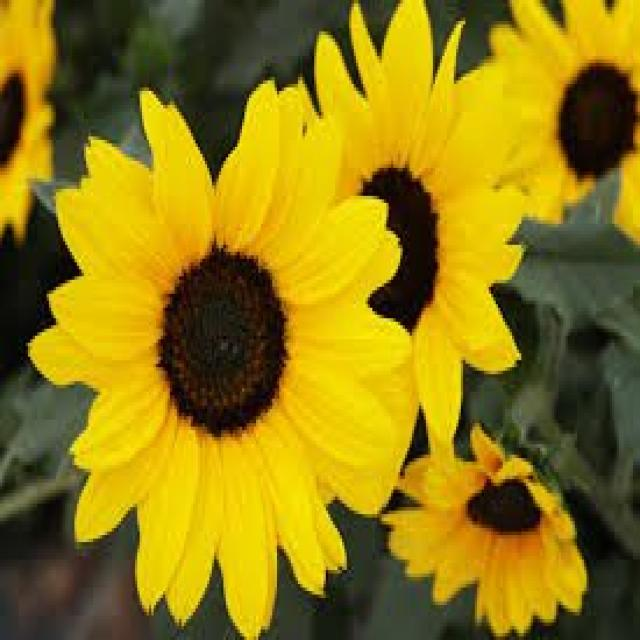sunflower: (30, 70, 424, 640), (307, 0, 524, 439), (385, 388, 597, 640), (475, 0, 638, 242)
